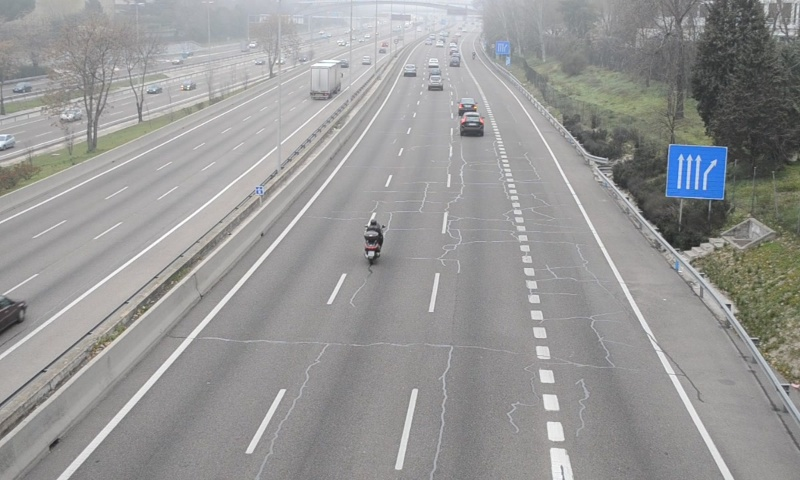car: (460, 112, 484, 136), (457, 96, 477, 114)
motorcycle: (362, 219, 385, 268)
